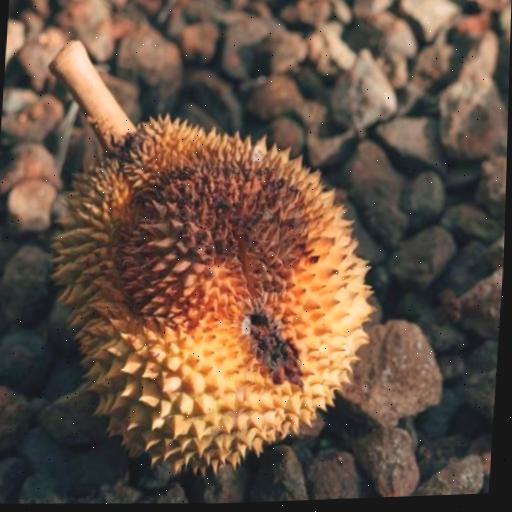rot: (0, 0, 468, 512)
